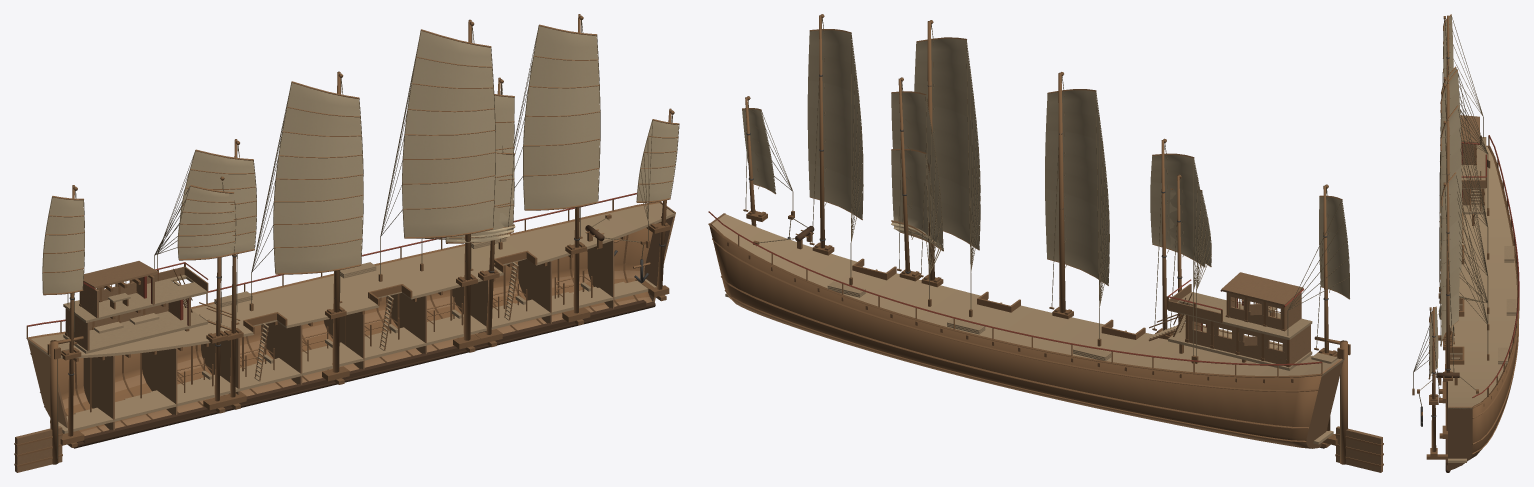
The model's file is machuan-section.glb.
3 views of the same model, side by side, from view 1: azimuth 30°, elevation 25°; view 2: azimuth 150°, elevation 25°; view 3: azimuth 270°, elevation 25° (orthographic). The views are drawn at different scales.
Visible parts, largest first — view 1: Battened sail panels.014_WEB, Battened sail panels.013_WEB, Battened sail panels.015_WEB, Port planked shell.001_WEB, Battened sail panels.012_WEB, Battened sail panels.010_WEB, Keelson.001_WEB, Battened sail panels.011_WEB, Battened sail panels.019_WEB, Battened sail panels.016_WEB, Level floor.001_WEB, Keel.001_WEB (+27 smaller); view 2: Port planked shell.001_WEB, Battened sail panels.013_WEB, Battened sail panels.014_WEB, Battened sail panels.015_WEB, Battened sail panels.012_WEB, Battened sail panels.017_WEB, Battened sail panels.016_WEB, Battened sail panels.010_WEB, Battened sail panels.019_WEB, Cambered upper shelter roof.001_WEB, Stern transom.001_WEB, Rudder blade.001_WEB (+17 smaller); view 3: Battened sail panels.015_WEB, Port planked shell.001_WEB, Battened sail panels.014_WEB, Bow closure.001_WEB, Tapered mast.013_WEB, Battened sail panels.013_WEB, Walkable roof.004_WEB, Tapered mast.015_WEB, Main deck plank.069_WEB, Main deck plank.062_WEB, Cambered upper shelter roof.001_WEB, Main deck plank.063_WEB (+49 smaller).
Boxes of the visible parts, bbox=[...] form: Battened sail panels.014_WEB: bbox=[402, 31, 495, 237]; Battened sail panels.013_WEB: bbox=[273, 82, 363, 273]; Battened sail panels.015_WEB: bbox=[523, 26, 599, 209]; Port planked shell.001_WEB: bbox=[30, 202, 659, 435]; Battened sail panels.012_WEB: bbox=[179, 150, 256, 252]; Battened sail panels.010_WEB: bbox=[42, 197, 84, 293]; Keelson.001_WEB: bbox=[83, 300, 646, 443]; Battened sail panels.011_WEB: bbox=[177, 185, 235, 258]; Battened sail panels.019_WEB: bbox=[636, 120, 678, 201]; Battened sail panels.016_WEB: bbox=[445, 95, 514, 241]; Level floor.001_WEB: bbox=[63, 305, 207, 353]; Keel.001_WEB: bbox=[73, 302, 655, 448]; Port planked shell.001_WEB: bbox=[709, 224, 1321, 448]; Battened sail panels.013_WEB: bbox=[1045, 90, 1109, 285]; Battened sail panels.014_WEB: bbox=[914, 38, 980, 249]; Battened sail panels.015_WEB: bbox=[807, 30, 862, 219]; Battened sail panels.012_WEB: bbox=[1150, 155, 1205, 266]; Battened sail panels.017_WEB: bbox=[891, 150, 940, 248]; Battened sail panels.016_WEB: bbox=[891, 92, 942, 250]; Battened sail panels.010_WEB: bbox=[1319, 197, 1349, 298]; Battened sail panels.019_WEB: bbox=[742, 109, 775, 193]; Cambered upper shelter roof.001_WEB: bbox=[1221, 272, 1303, 306]; Stern transom.001_WEB: bbox=[1306, 358, 1343, 448]; Rudder blade.001_WEB: bbox=[1336, 426, 1382, 472]; Battened sail panels.015_WEB: bbox=[1441, 173, 1459, 345]; Port planked shell.001_WEB: bbox=[1468, 146, 1517, 460]; Battened sail panels.014_WEB: bbox=[1440, 107, 1462, 297]; Bow closure.001_WEB: bbox=[1448, 406, 1472, 470]; Tapered mast.013_WEB: bbox=[1445, 182, 1449, 430]; Battened sail panels.013_WEB: bbox=[1440, 70, 1461, 171]; Walkable roof.004_WEB: bbox=[1461, 137, 1486, 179]; Tapered mast.015_WEB: bbox=[1431, 307, 1436, 451]; Main deck plank.069_WEB: bbox=[1450, 320, 1515, 328]; Main deck plank.062_WEB: bbox=[1459, 280, 1516, 288]; Cambered upper shelter roof.001_WEB: bbox=[1460, 115, 1479, 143]; Main deck plank.063_WEB: bbox=[1459, 288, 1516, 296].
Size of the model in its own units: 51.86 by 25.57 by 8.73.
23 materials, 10 textured.
